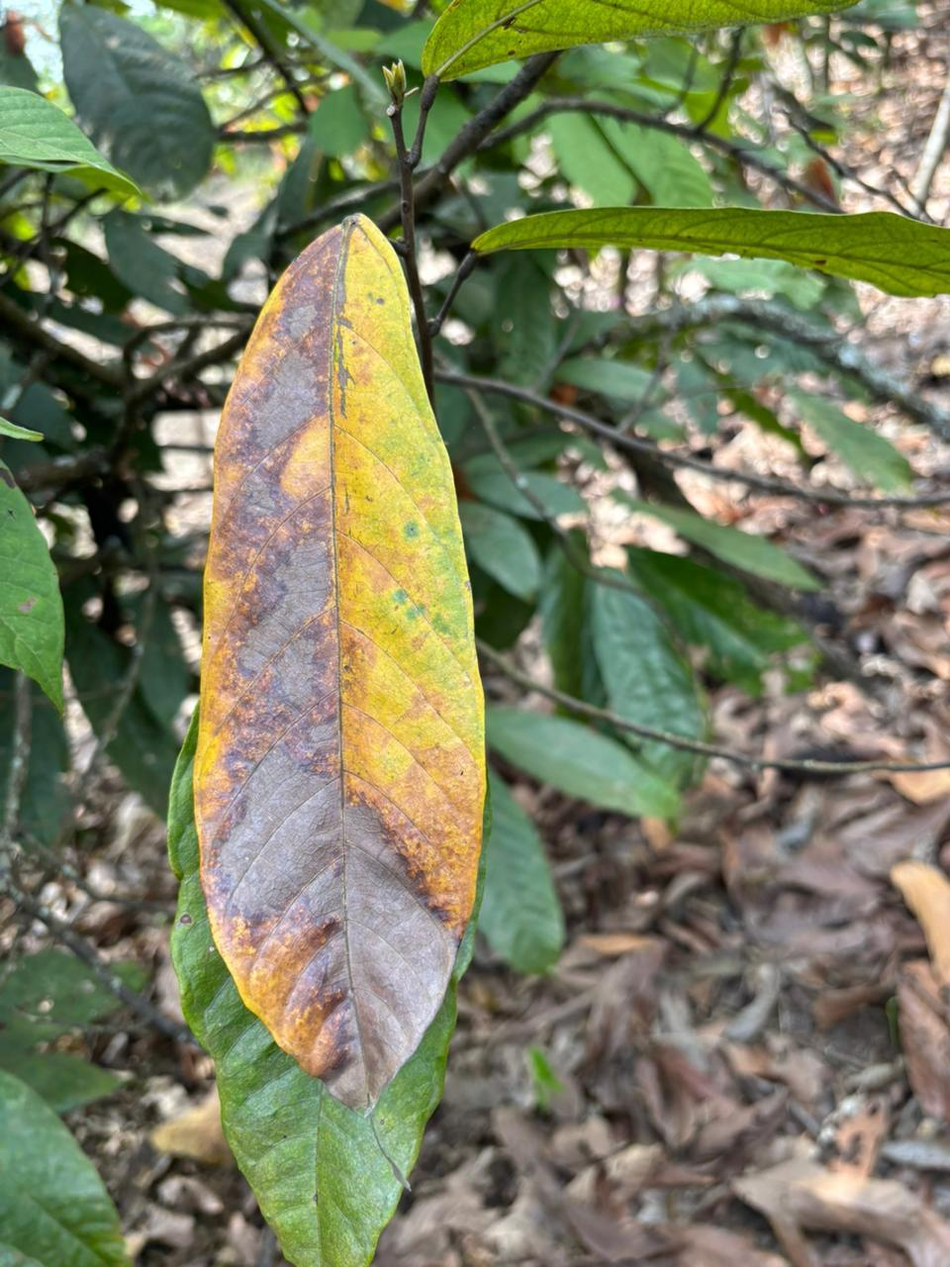deficienciia_fosforo: (193, 215, 485, 1114)
